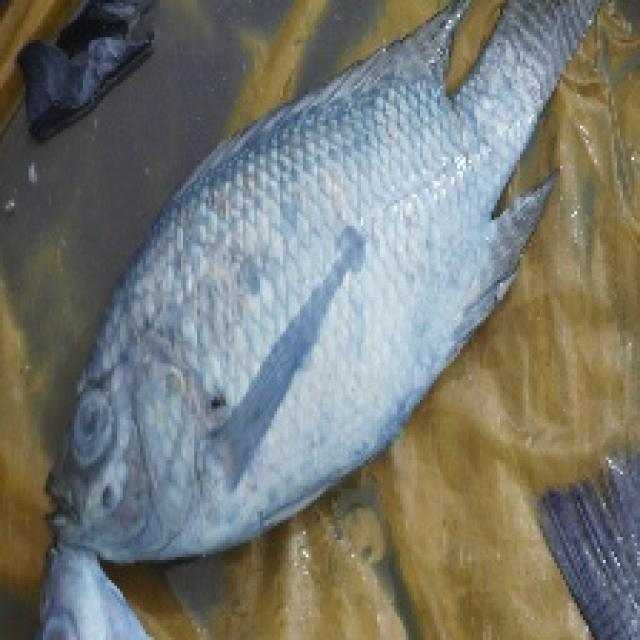Non-Fresh: (65, 170, 466, 562)
